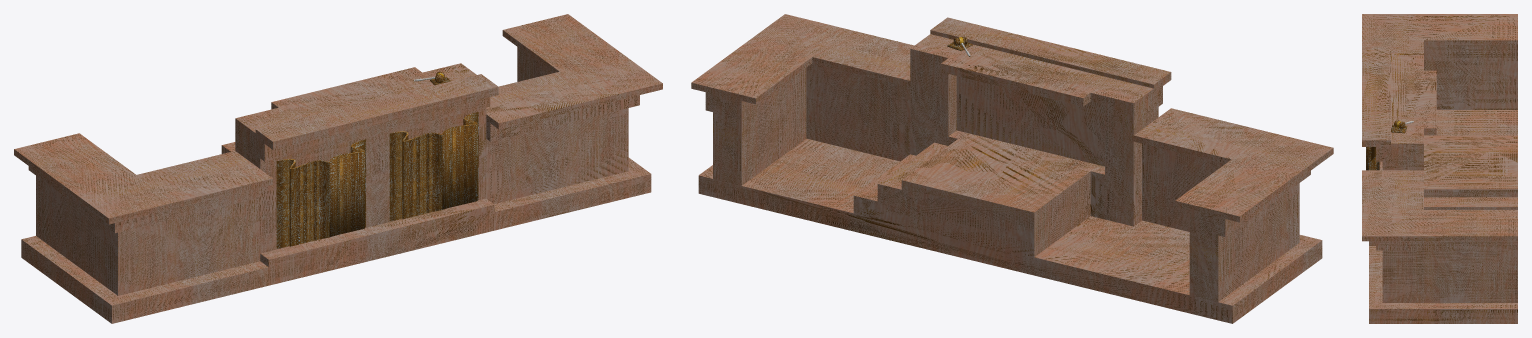
The picture shows the model from 3 angles, left to right: view 1: azimuth 30°, elevation 25°; view 2: azimuth 150°, elevation 25°; view 3: azimuth 270°, elevation 25°; orthographic projection. The views are drawn at different scales.
Parts seen in each view (by area): view 1: SketchUp (×3); view 2: SketchUp; view 3: SketchUp (×2).
Boxes of the visible parts, x1,y1,x2,y2 form: SketchUp (×3): (14, 14, 662, 323); SketchUp: (691, 14, 1333, 323); SketchUp (×2): (1362, 14, 1517, 323).
Bounding box in the file's own units: 229 × 67.81 × 60.15.
